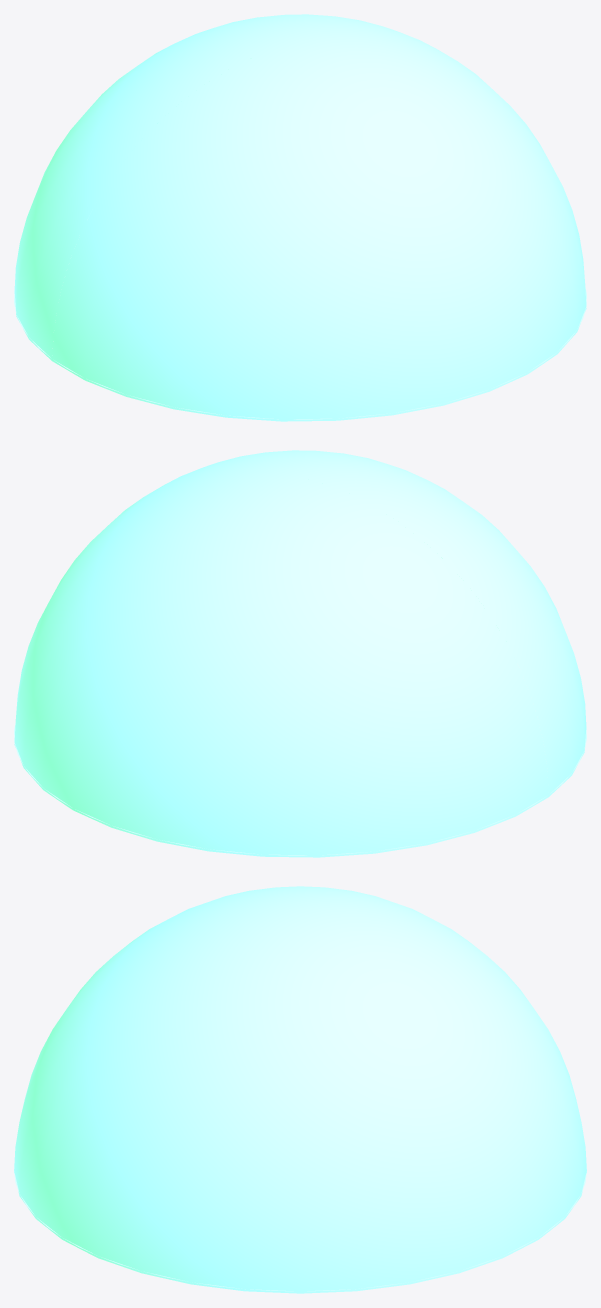
File: nano_repair_field.glb
3 renders of one model, top to bottom at view 1: azimuth 30°, elevation 25°; view 2: azimuth 150°, elevation 25°; view 3: azimuth 270°, elevation 25°, orthographic.
Visible parts, largest first — view 1: nano_repair_field; view 2: nano_repair_field; view 3: nano_repair_field.
Boxes of the visible parts, <box> form: nano_repair_field: <box>14,14,586,421</box>; nano_repair_field: <box>14,450,586,857</box>; nano_repair_field: <box>14,886,586,1293</box>.
Bounding box in the file's own units: 2.4 × 1.22 × 2.4.
